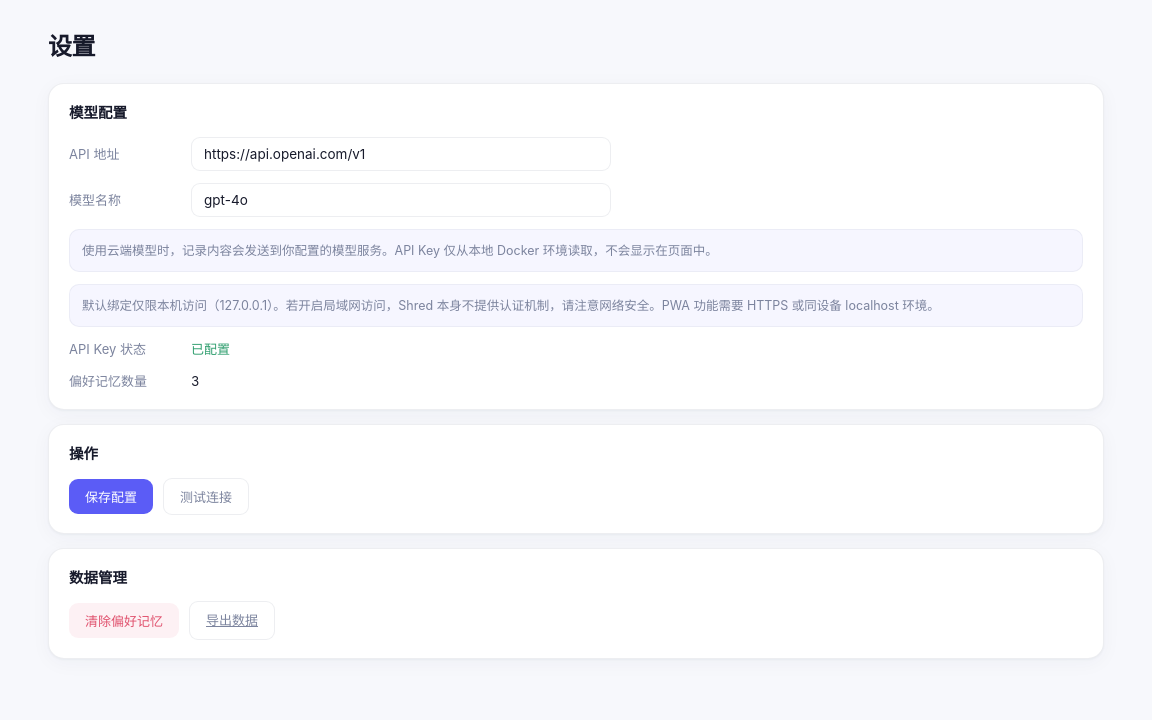
Test: SettingsPage › shows successful connection test result
The width and height of the screenshot is (1152, 720).
Click the button "测试连接": (206, 496) [163,478,249,515]
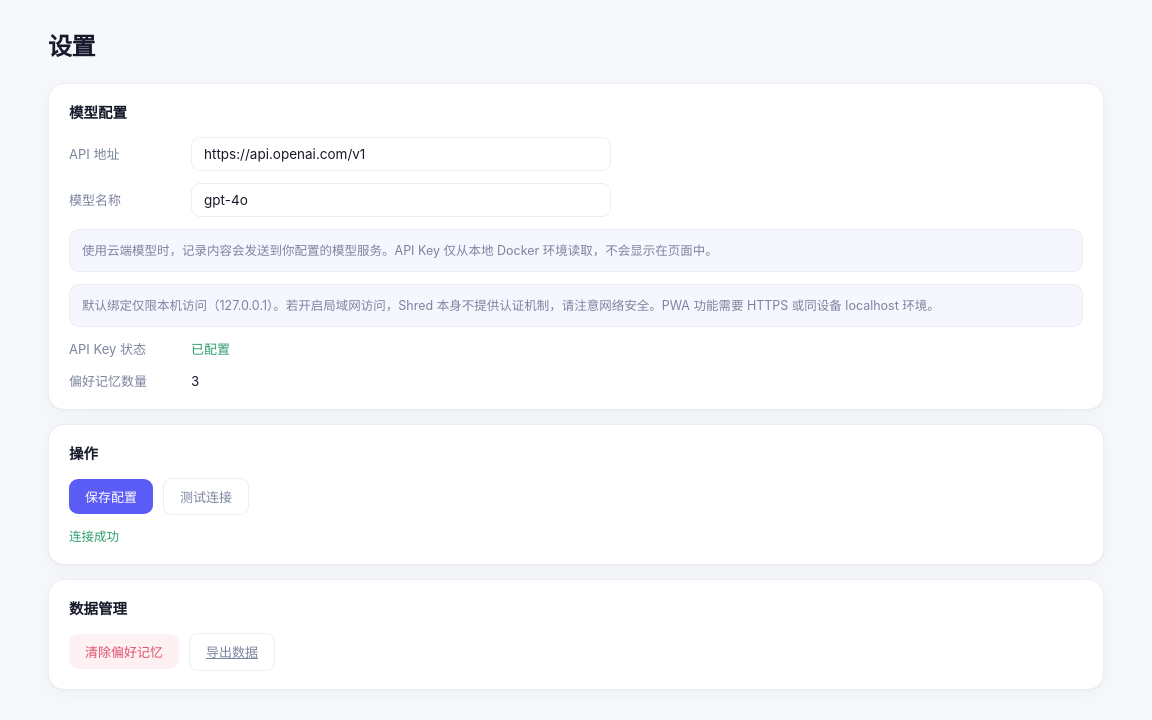
Check: the text "连接成功" is shown, box [69,529,119,544]
